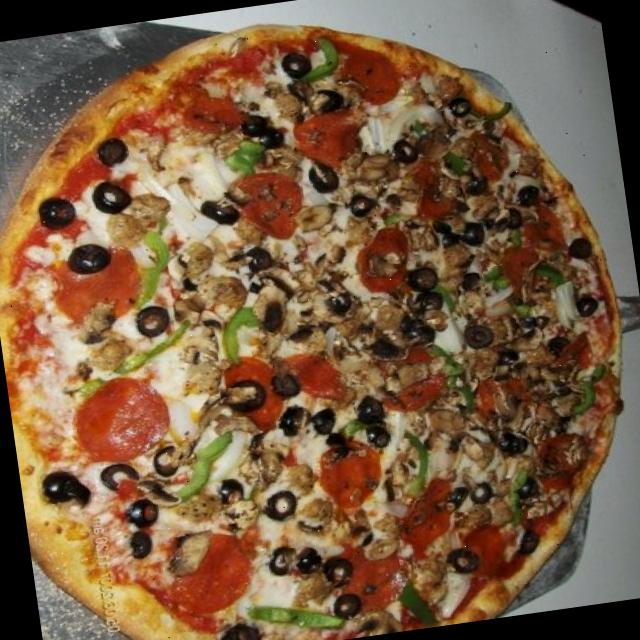Bell Pepper: (430, 339, 478, 419), (110, 333, 182, 378), (182, 436, 236, 496), (387, 429, 430, 503), (562, 368, 610, 424), (260, 599, 328, 635), (300, 35, 343, 89), (395, 582, 441, 626), (218, 139, 260, 182), (426, 280, 459, 322), (330, 411, 374, 442), (528, 258, 560, 296), (482, 266, 504, 296)
Olive: (429, 204, 524, 252), (34, 464, 94, 517), (434, 476, 497, 516), (62, 236, 112, 284), (145, 438, 194, 482), (89, 178, 139, 218), (92, 457, 142, 497), (36, 191, 82, 234), (192, 194, 240, 234), (130, 300, 173, 342), (225, 244, 278, 276), (458, 317, 502, 353), (119, 498, 162, 534), (116, 530, 158, 566), (91, 137, 134, 172), (444, 546, 484, 581), (494, 429, 534, 462), (512, 177, 552, 210), (286, 544, 322, 580), (265, 540, 299, 578), (492, 343, 526, 381), (440, 92, 480, 124), (318, 556, 354, 591), (306, 159, 342, 194), (277, 47, 314, 81), (256, 302, 292, 336), (330, 589, 369, 620), (508, 472, 542, 506), (388, 136, 420, 172), (239, 112, 276, 142), (208, 622, 266, 640), (515, 526, 545, 560), (344, 190, 374, 224), (569, 291, 603, 319), (564, 234, 594, 264), (255, 124, 282, 155), (462, 175, 490, 202)
mushrooms: (288, 255, 367, 338), (166, 247, 245, 327), (51, 320, 127, 387), (424, 410, 490, 478), (175, 326, 225, 394), (230, 435, 298, 484), (104, 212, 174, 250), (528, 371, 569, 430), (189, 401, 247, 440), (168, 530, 215, 578), (368, 298, 418, 340), (346, 148, 396, 186), (211, 501, 262, 536), (269, 82, 307, 120), (443, 248, 471, 291)
pepperoni: (67, 369, 176, 471), (160, 527, 272, 621), (42, 248, 148, 328), (308, 432, 394, 526), (224, 166, 307, 247), (214, 352, 292, 437), (368, 338, 452, 416), (332, 534, 407, 620), (392, 474, 462, 566), (349, 218, 421, 300), (288, 102, 368, 172), (333, 41, 405, 108), (278, 345, 358, 403), (401, 150, 461, 226), (532, 428, 605, 488), (467, 368, 538, 429), (457, 520, 522, 586), (476, 240, 543, 303), (538, 325, 595, 382), (516, 198, 571, 257), (468, 128, 516, 183)
pizza: (0, 26, 622, 640)
